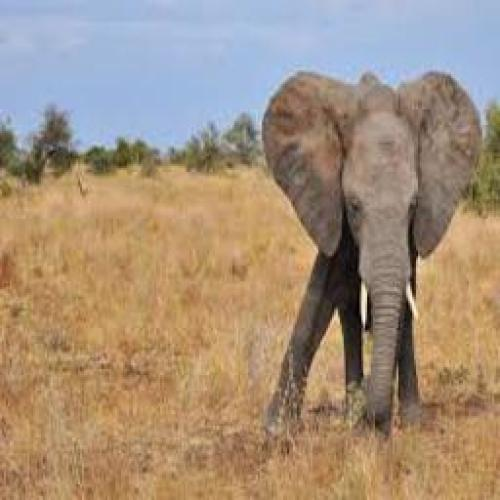african_elephant-endangered: (258, 70, 482, 441)
